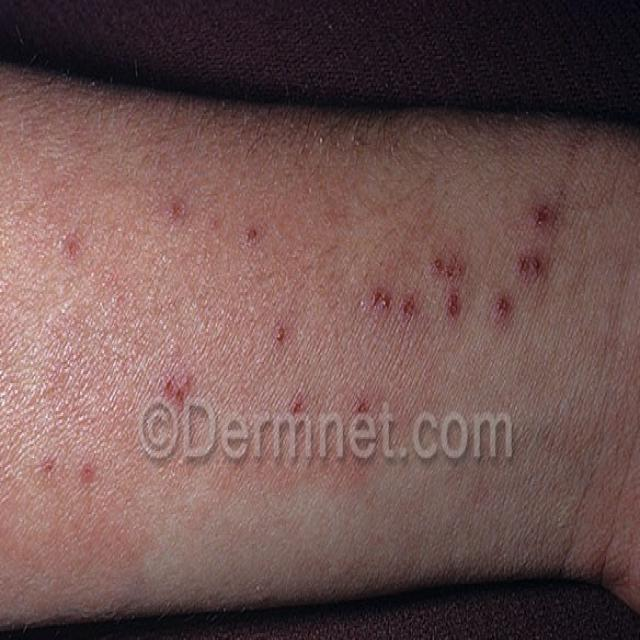Vascular Tumors: (349, 191, 573, 359), (152, 158, 281, 241), (15, 459, 104, 520), (35, 220, 98, 289), (140, 347, 198, 420)
